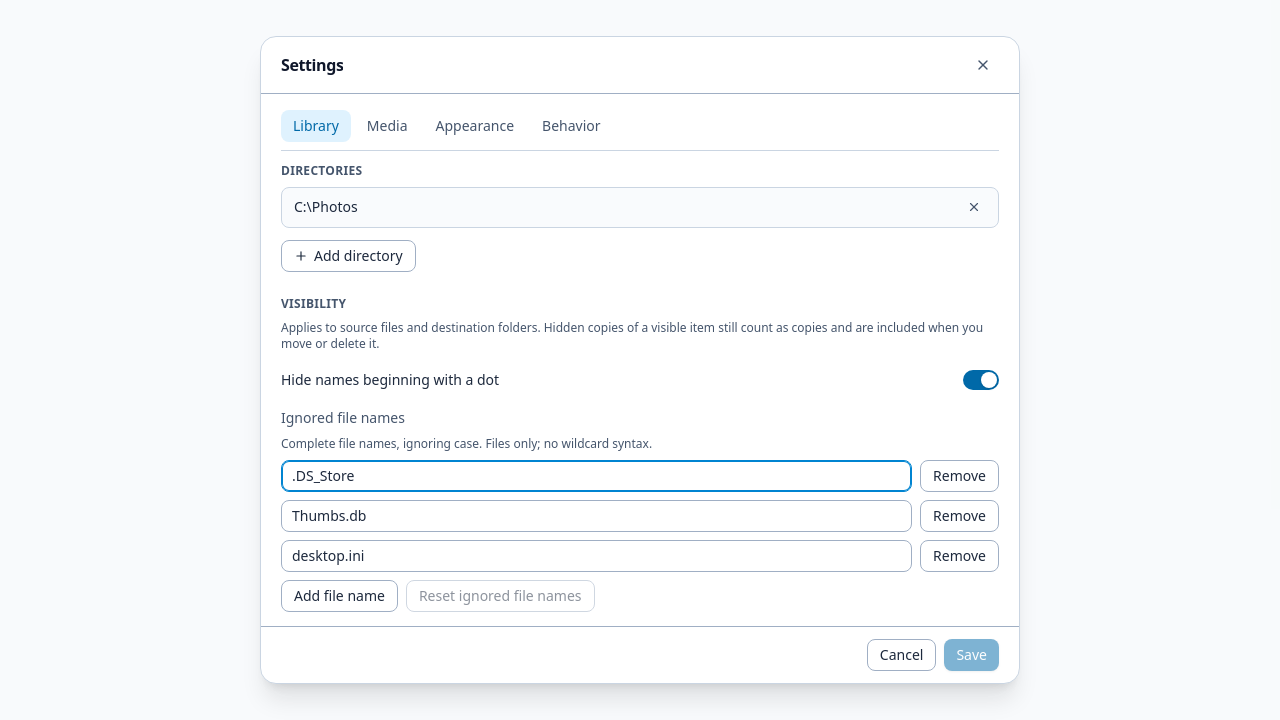
Test: Settings categories › reports a failed screen-order write once, at the rows that asked
The image size is (1280, 720).
Click the tab "Appearance".
click(475, 126)  # box [424,110,526,142]
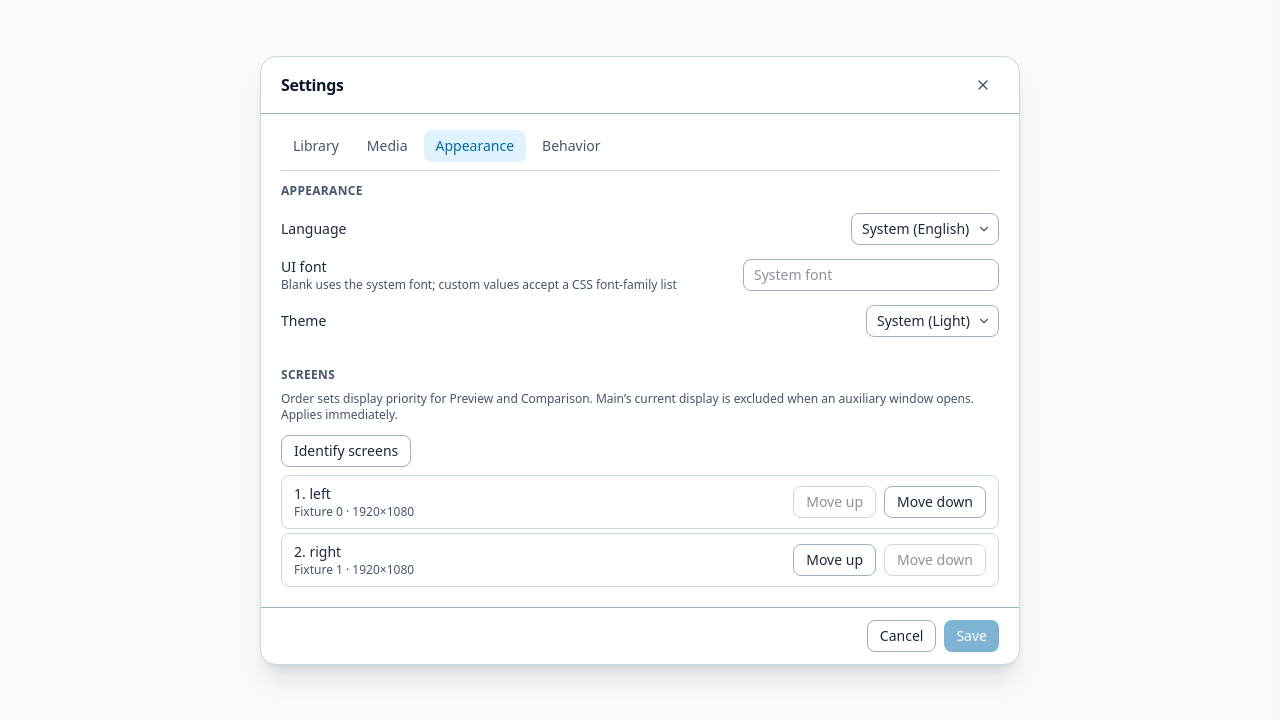
Click the button "Move down" in the row of "Fixture 0 · 1920×1080".
click(935, 502)  # box [884,486,986,518]
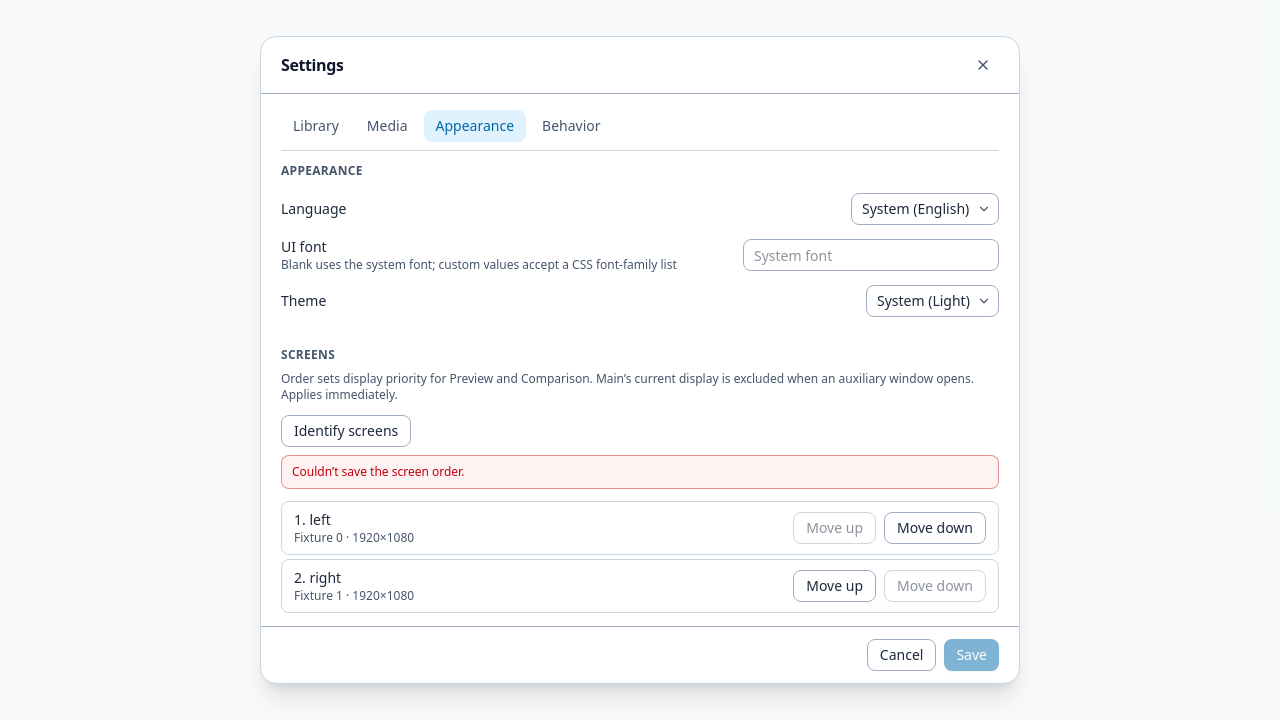
Now the text "Couldn’t save the screen order." is shown, box [292,463,464,480]
